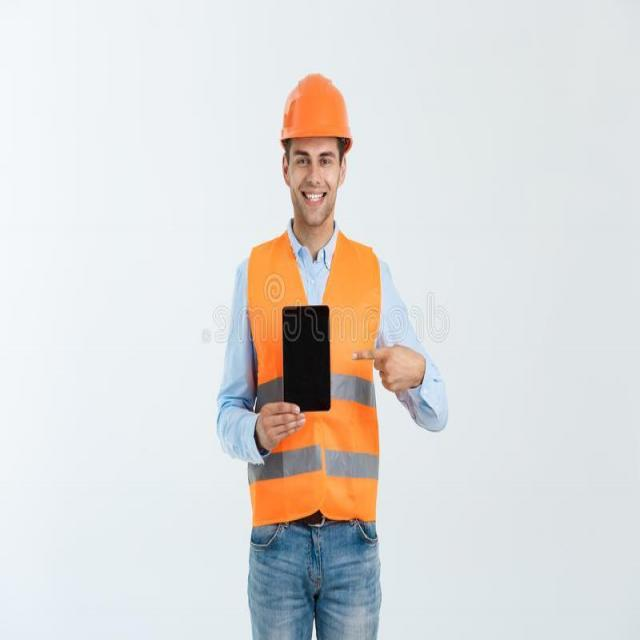Reflective-Jacket: (242, 234, 391, 531)
Safety-Helmet: (276, 67, 356, 152)
